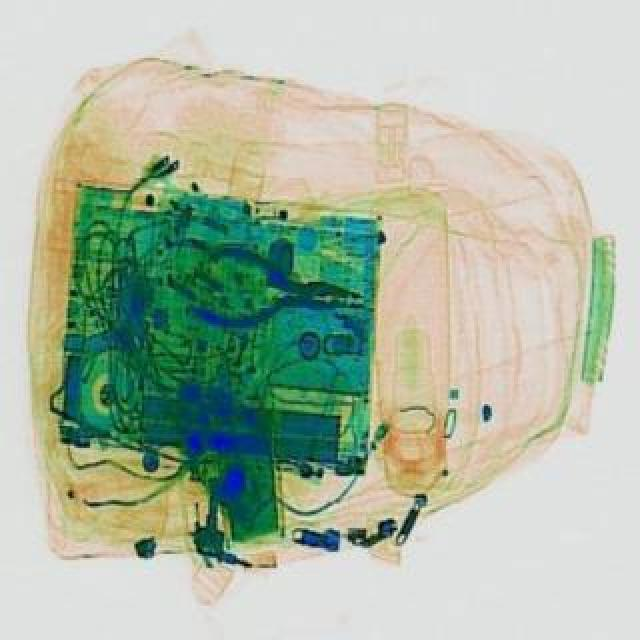wrench: (196, 246, 370, 346)
